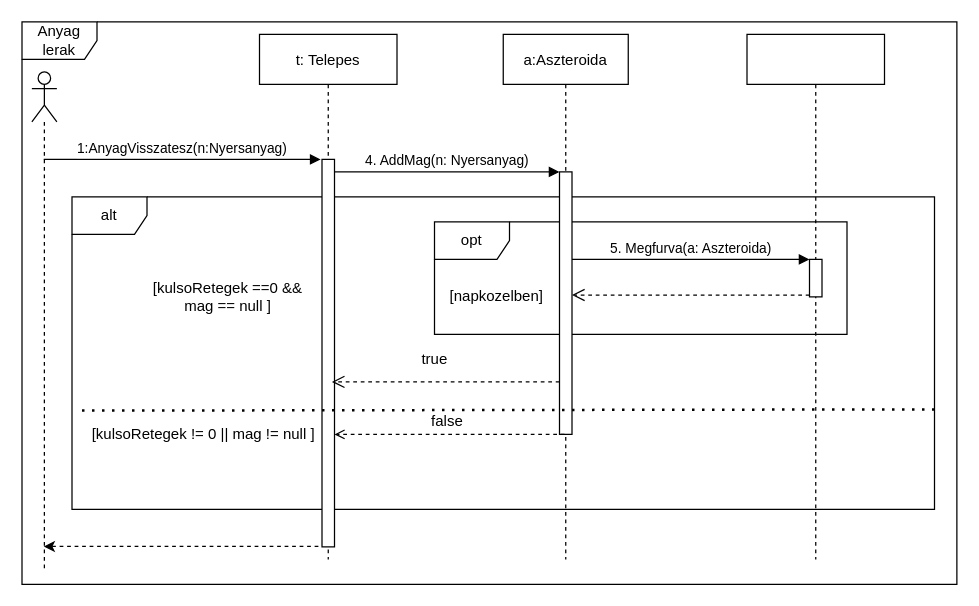
Image size: 979x606. Some labels were removed from this diagram. The shapes that lost their labels are listed below. From the top down, each one's box as (x1, y1, x2, y2) in pixels, then its label:
(746, 33, 884, 559): n:Nyersanyag
(31, 71, 57, 572): Player
